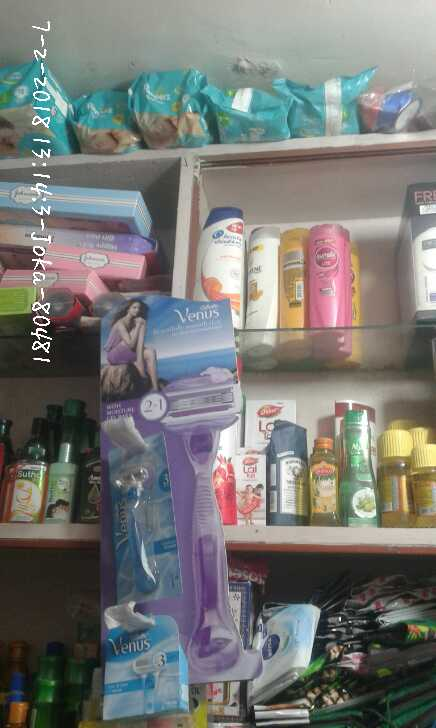beauty: (106, 435, 186, 597), (96, 624, 196, 720)
venus: (196, 194, 244, 329), (240, 220, 279, 346)
